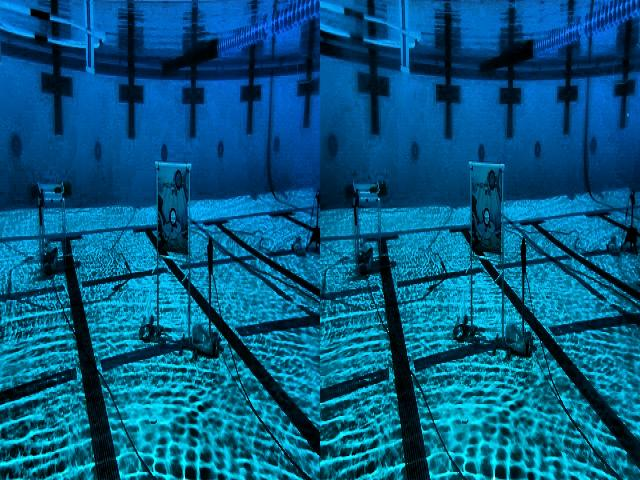octagon_table: (345, 178, 396, 283), (28, 181, 78, 271)
octagon_top: (318, 0, 424, 81), (0, 0, 106, 76)
